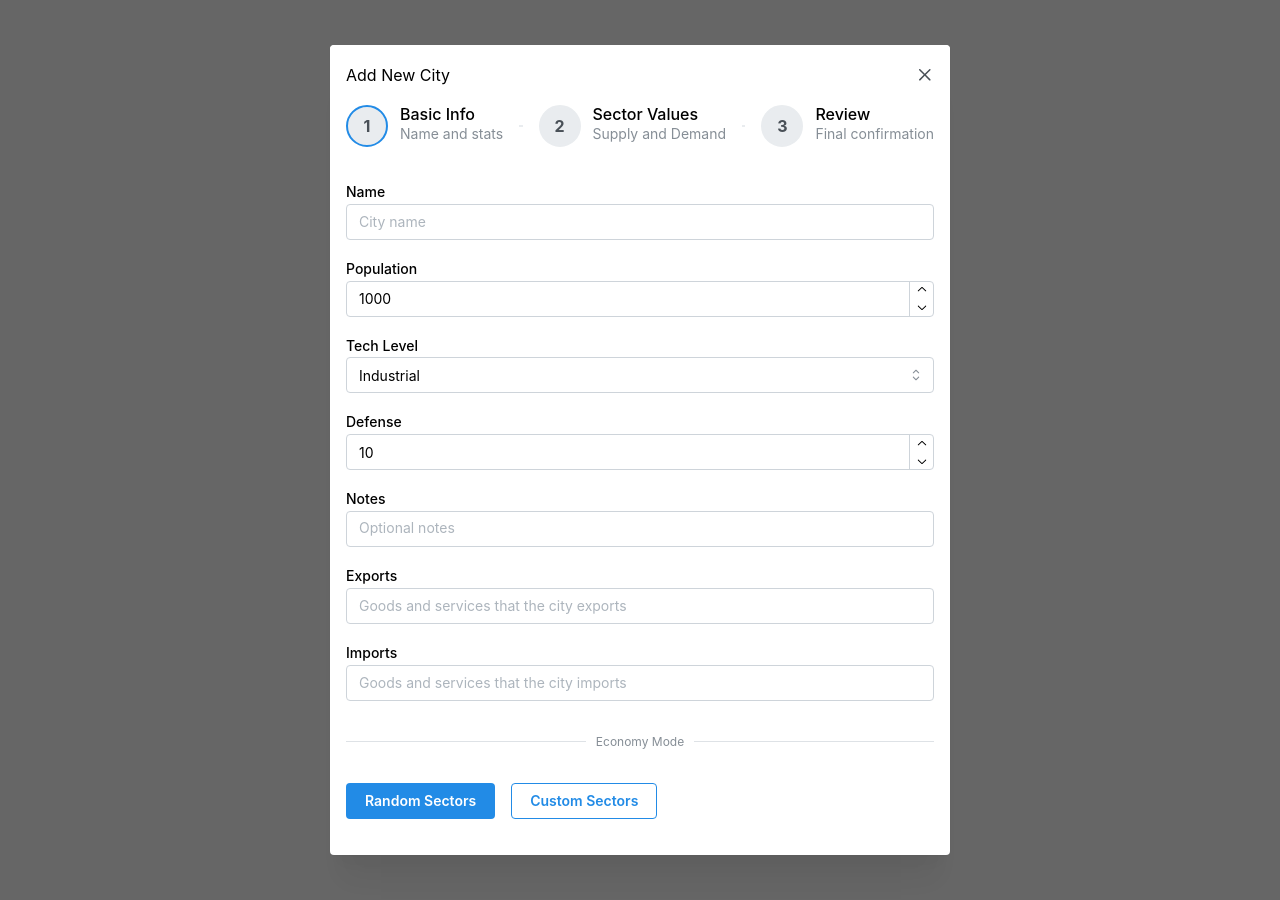
Test: AddCityWizard › uses read-only sector grid on Step 2 in random mode
This screenshot has width=1280, height=900.
Type "Random City" into the field labelled "Name". click: point(640, 222)
box: [346, 204, 934, 240]
(page scrolled)
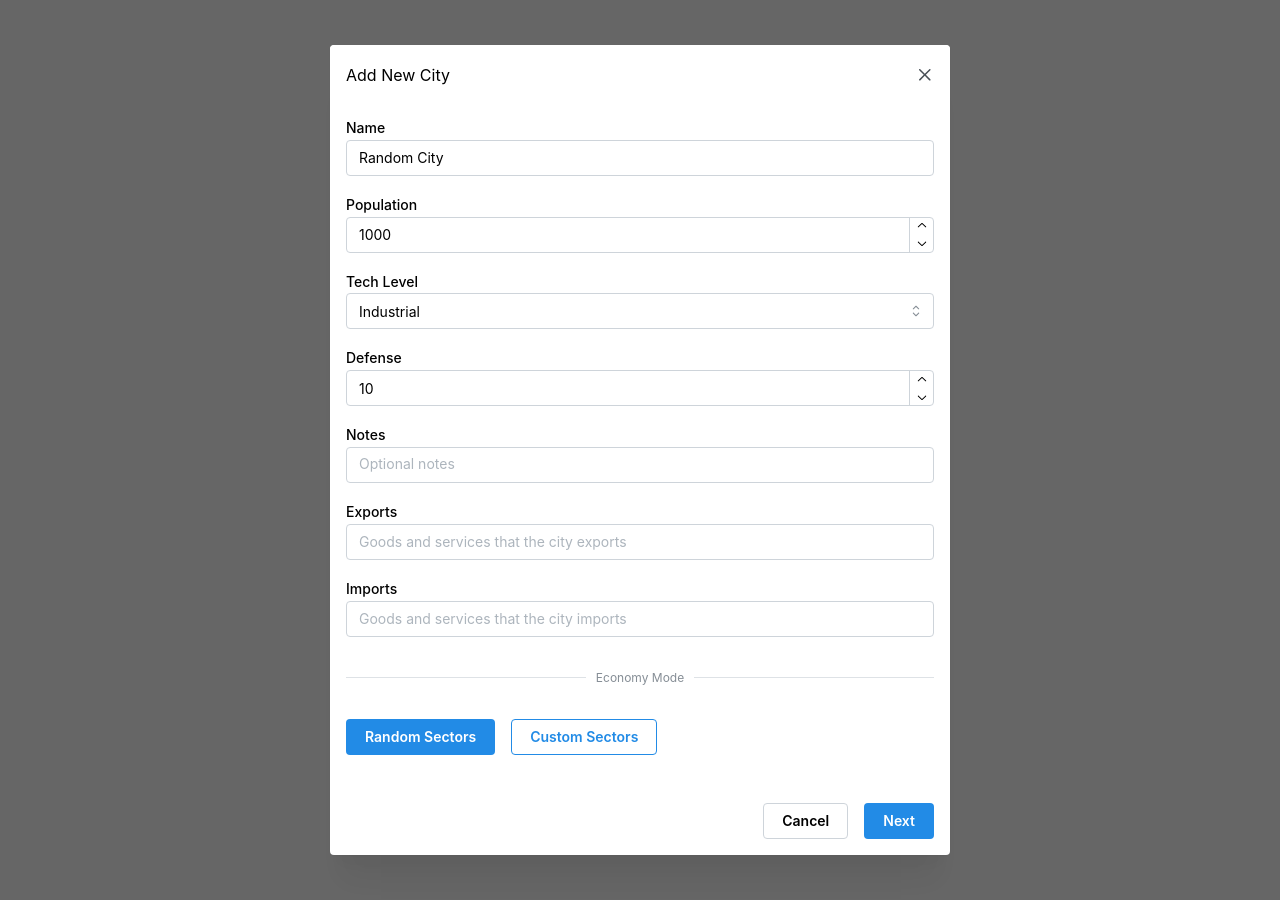
Click the button "Next". click: point(899, 821)
box: [864, 803, 934, 839]
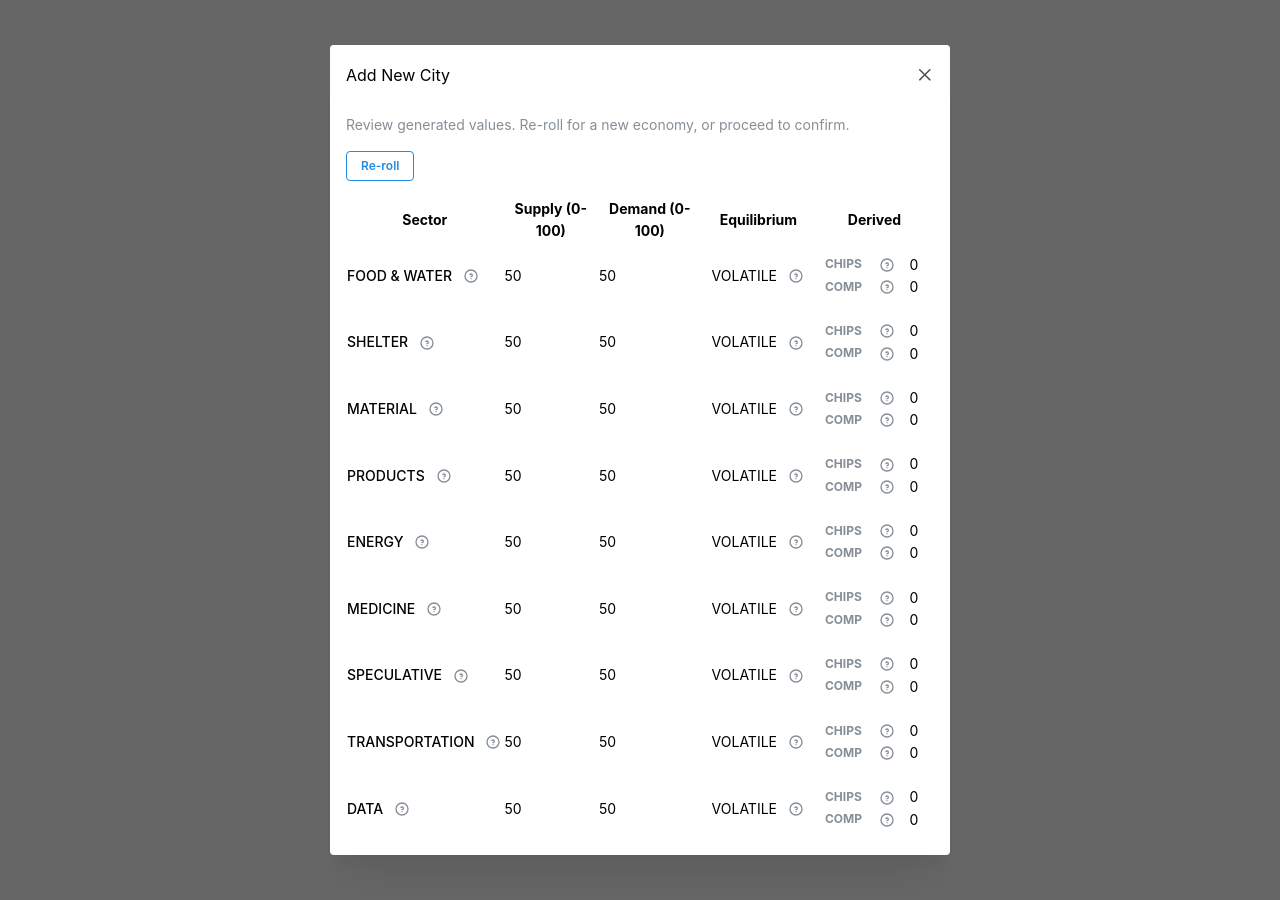
Check: no fields are shown
